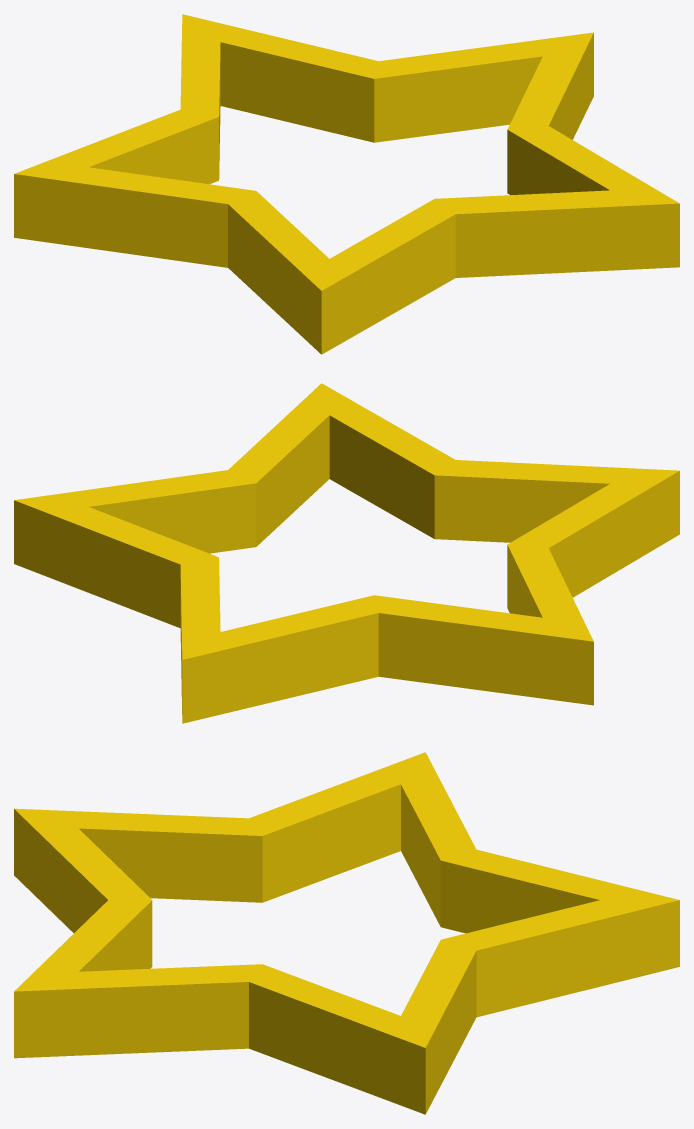
File: star.02.glb
3 renders of one model, top to bottom at view 1: azimuth 30°, elevation 25°; view 2: azimuth 150°, elevation 25°; view 3: azimuth 270°, elevation 25°, orthographic. The views are drawn at different scales.
Visible parts, largest first — view 1: Circle.003; view 2: Circle.003; view 3: Circle.003.
Part boxes in pixels (left/top/right/bottom): Circle.003: left=14, top=14, right=679, bottom=354; Circle.003: left=14, top=383, right=679, bottom=723; Circle.003: left=14, top=752, right=679, bottom=1114.
Bounding box in the file's own units: 0.6942 × 0.073 × 0.6602.
Materials: 1 (1 with a texture image).
